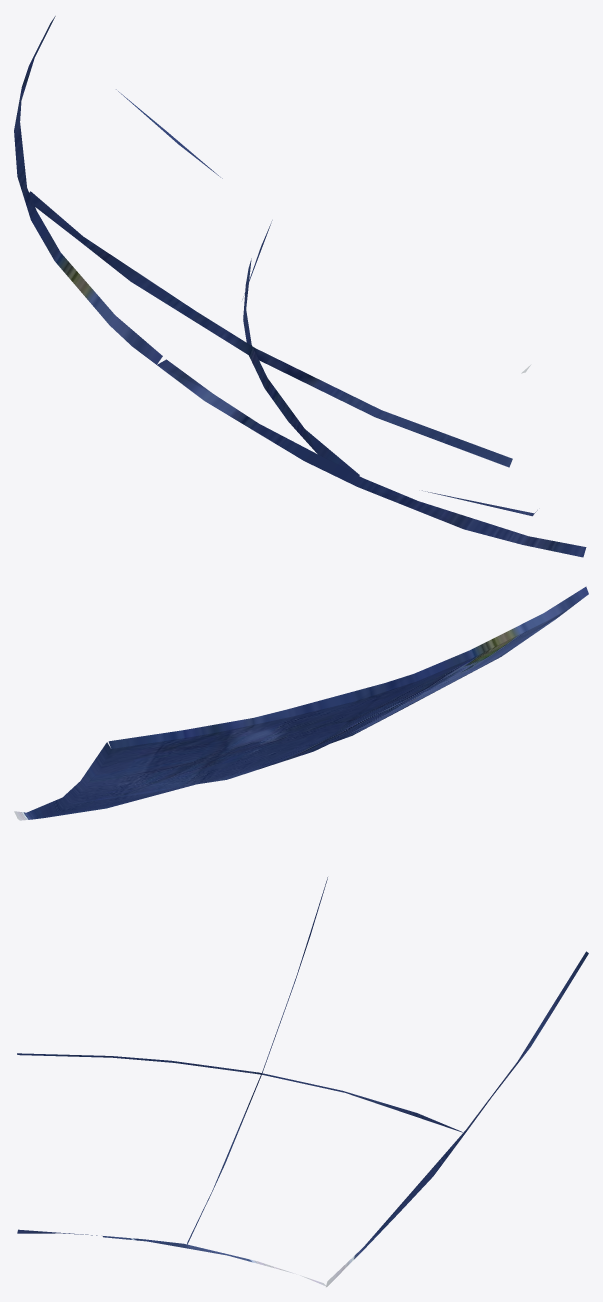
3 views of the same model, one above another, from view 1: azimuth 30°, elevation 25°; view 2: azimuth 150°, elevation 25°; view 3: azimuth 270°, elevation 25° (orthographic). The views are drawn at different scales.
Bounding box in the file's own units: 2826898 × 1441020 × 3231496.
1 material, 1 textured.
